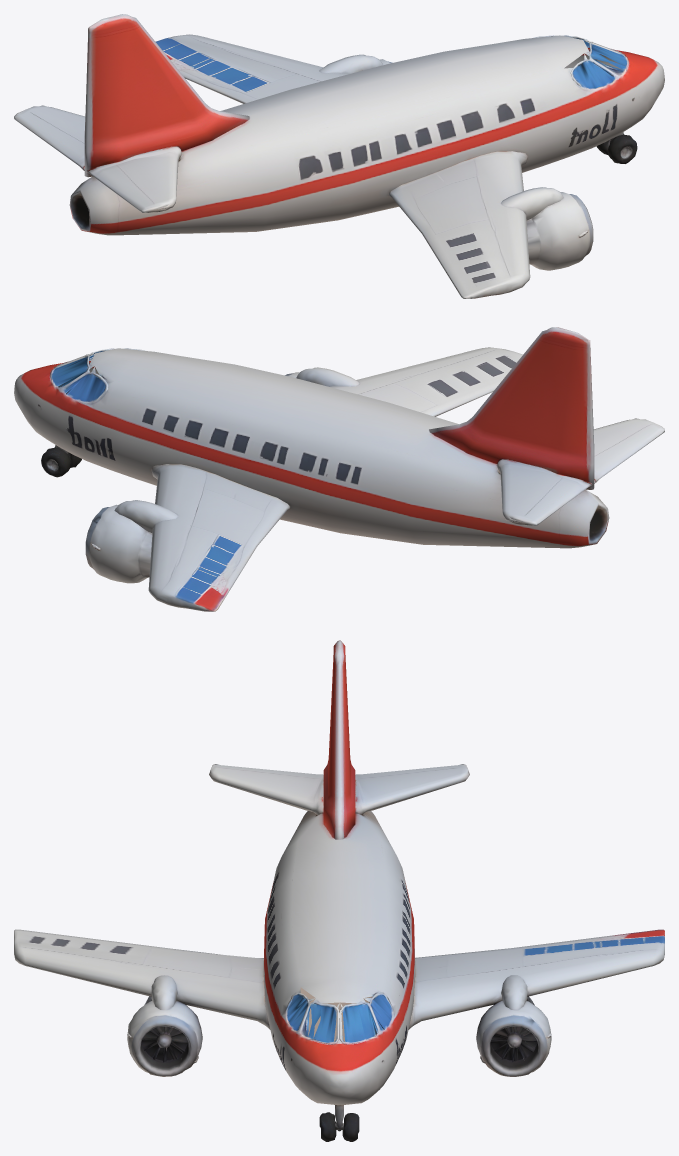
3 renders of one model, top to bottom at view 1: azimuth 30°, elevation 25°; view 2: azimuth 150°, elevation 25°; view 3: azimuth 270°, elevation 25°, orthographic. The views are drawn at different scales.
Parts seen in each view (by area): view 1: tripo_node_b8ae0456-a441-482f-90ac-4af0c93f2afe; view 2: tripo_node_b8ae0456-a441-482f-90ac-4af0c93f2afe; view 3: tripo_node_b8ae0456-a441-482f-90ac-4af0c93f2afe.
Part boxes in pixels (x1,y1,x2,y2): tripo_node_b8ae0456-a441-482f-90ac-4af0c93f2afe: (14, 14, 664, 298); tripo_node_b8ae0456-a441-482f-90ac-4af0c93f2afe: (14, 327, 664, 611); tripo_node_b8ae0456-a441-482f-90ac-4af0c93f2afe: (14, 640, 664, 1141).
Size of the model in its own units: 0.998 by 0.4395 by 0.998.
Materials: 1 (1 with a texture image).
